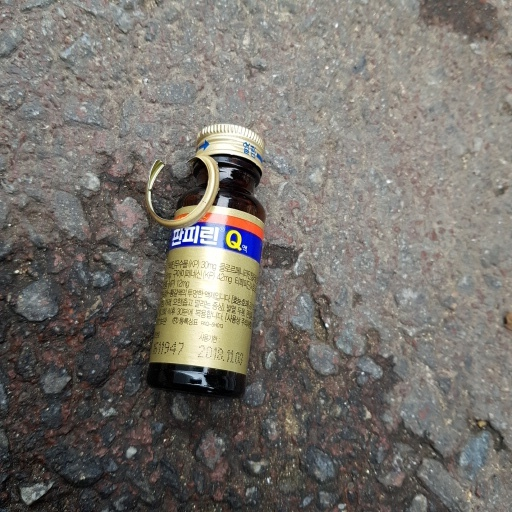Glass_3: (149, 118, 272, 409)
